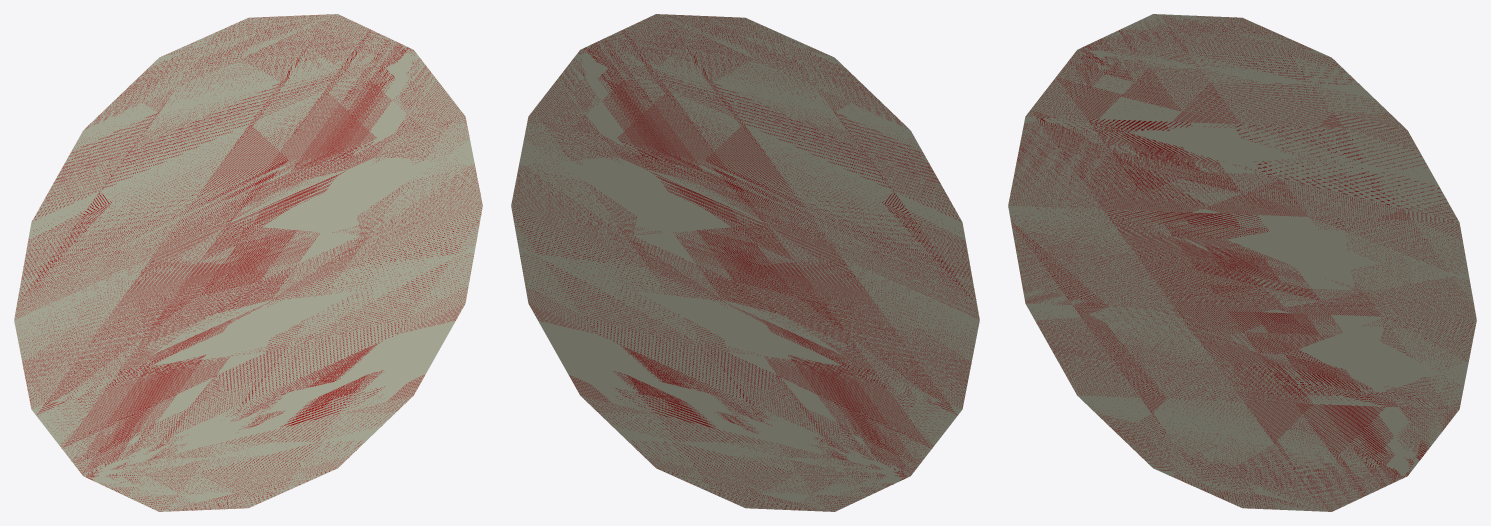
The model's file is original-121.obj.
3 views of the same model, side by side, from view 1: azimuth 30°, elevation 25°; view 2: azimuth 150°, elevation 25°; view 3: azimuth 330°, elevation 25° (orthographic).
Visible parts, largest first — view 1: part_2_2/part_2/mesh2/mesh2-geometry/material_5/component_0#mesh; view 2: part_2_2/part_2/mesh2/mesh2-geometry/material_5/component_0#mesh; view 3: part_2_2/part_2/mesh2/mesh2-geometry/material_5/component_0#mesh.
Part boxes in pixels (left/top/right/bottom): part_2_2/part_2/mesh2/mesh2-geometry/material_5/component_0#mesh: left=14, top=14, right=482, bottom=511; part_2_2/part_2/mesh2/mesh2-geometry/material_5/component_0#mesh: left=511, top=14, right=979, bottom=511; part_2_2/part_2/mesh2/mesh2-geometry/material_5/component_0#mesh: left=1008, top=14, right=1476, bottom=511.
Bounding box in the file's own units: 0.0311 × 0.0311 × 0.
